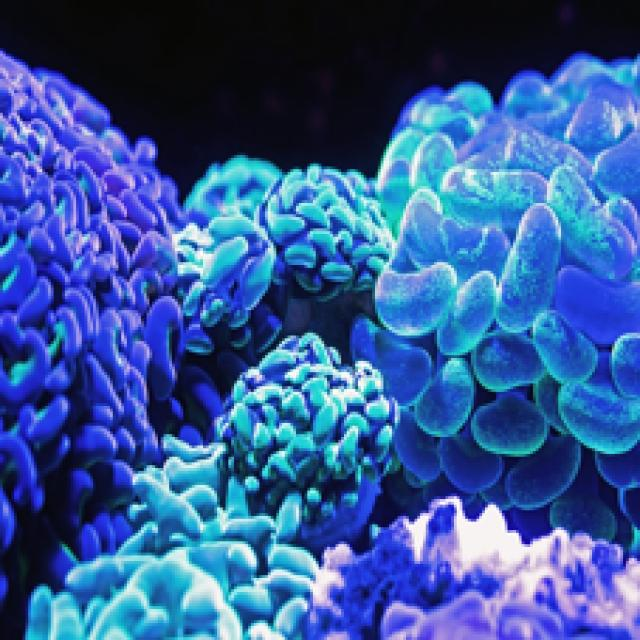Healthy: (373, 60, 638, 534), (1, 52, 184, 582), (55, 458, 317, 638), (311, 500, 638, 638), (221, 334, 396, 520), (255, 170, 393, 300), (184, 215, 274, 325)
